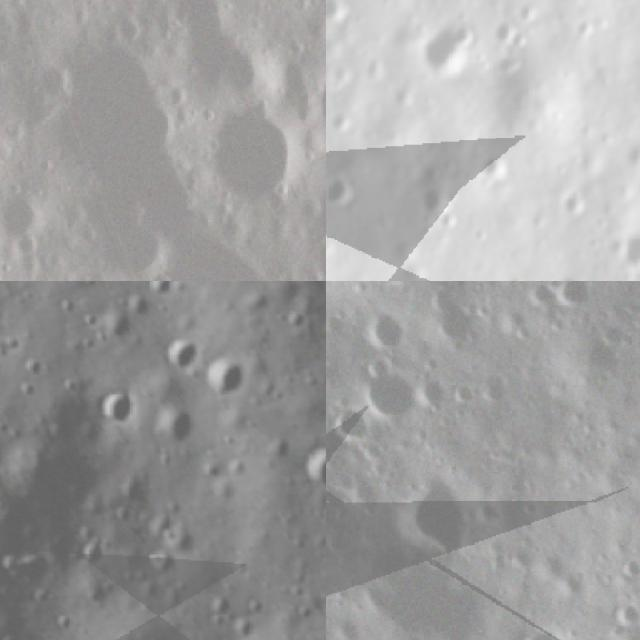crater: (192, 91, 321, 223), (142, 0, 273, 119), (383, 469, 475, 561), (273, 171, 326, 281), (411, 13, 486, 89), (0, 177, 60, 251), (358, 361, 427, 425), (22, 42, 84, 108), (427, 281, 484, 352), (300, 46, 326, 157), (328, 398, 377, 449), (155, 332, 204, 377), (202, 353, 245, 404), (359, 311, 412, 352), (0, 547, 50, 589), (326, 169, 369, 213), (418, 179, 460, 224), (156, 403, 194, 452), (478, 368, 517, 412), (98, 386, 136, 431), (548, 281, 603, 312), (613, 223, 640, 281), (598, 314, 637, 354), (478, 147, 516, 185), (301, 445, 326, 497), (203, 599, 239, 635), (488, 52, 524, 86), (559, 182, 590, 221), (326, 105, 361, 139), (605, 601, 640, 635), (509, 622, 574, 640), (0, 507, 29, 546), (451, 372, 478, 413), (335, 261, 378, 281), (326, 0, 354, 30), (29, 0, 83, 14), (574, 16, 598, 44), (506, 27, 532, 52), (229, 618, 255, 640), (516, 0, 538, 23), (147, 281, 173, 299), (0, 628, 32, 640)
